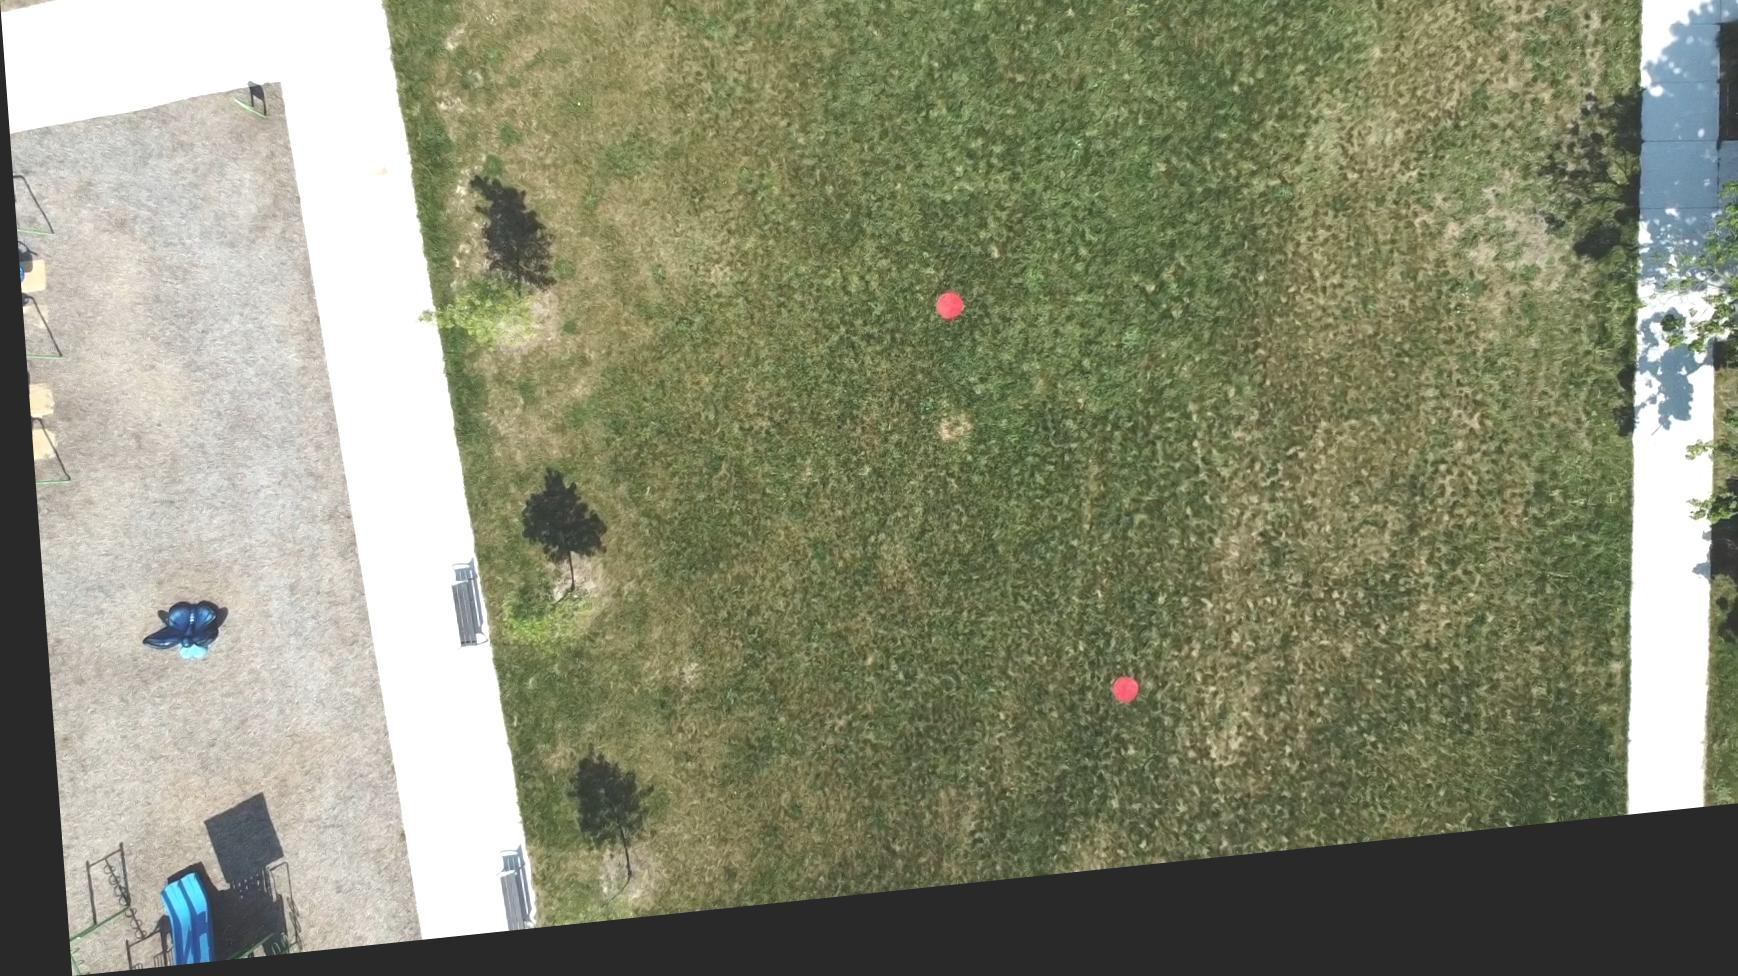Blue: (1122, 0, 1152, 24)
Red: (929, 311, 959, 341), (1099, 698, 1127, 727)
